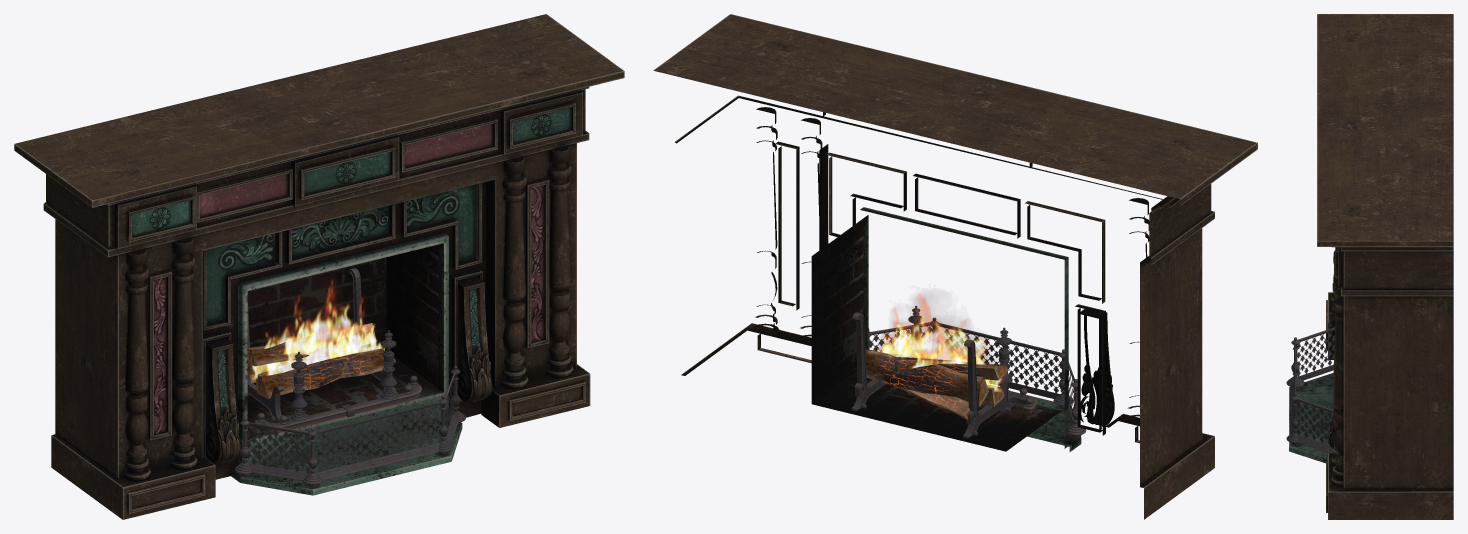
The picture shows the model from 3 angles, left to right: view 1: azimuth 30°, elevation 25°; view 2: azimuth 150°, elevation 25°; view 3: azimuth 270°, elevation 25°; orthographic projection. The views are drawn at different scales.
Visible parts, largest first — view 1: Fireplace, fireplace (×2), wood_1, fire_4, fire_3, fire_1, wood_3, fire_2; view 2: Fireplace, fireplace (×2), wood_4, fire_4, fire_2, wood_3, fire_3, wood_2; view 3: Fireplace, fireplace.
Boxes of the visible parts, left/top/right/bottom form: Fireplace: left=14, top=14, right=624, bottom=519; fireplace (×2): left=235, top=268, right=465, bottom=487; wood_1: left=255, top=346, right=384, bottom=398; fire_4: left=283, top=279, right=362, bottom=364; fire_3: left=264, top=286, right=356, bottom=375; fire_1: left=326, top=297, right=384, bottom=358; wood_3: left=247, top=334, right=357, bottom=366; fire_2: left=250, top=295, right=314, bottom=380; Fireplace: left=653, top=14, right=1257, bottom=519; fireplace (×2): left=851, top=306, right=1086, bottom=438; wood_4: left=865, top=348, right=988, bottom=407; fire_4: left=877, top=294, right=987, bottom=363; fire_2: left=894, top=321, right=1004, bottom=392; wood_3: left=897, top=357, right=1008, bottom=380; fire_3: left=899, top=297, right=989, bottom=384; wood_2: left=894, top=386, right=969, bottom=419; Fireplace: left=1289, top=14, right=1453, bottom=519; fireplace: left=1286, top=327, right=1334, bottom=452.
Bounding box in the file's own units: 1.86 × 1.11 × 0.579.
8 materials, 8 textured.
